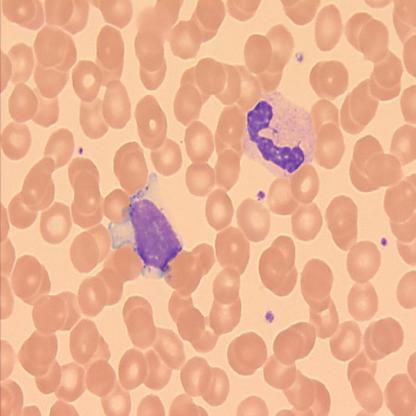Atypical lymphocyte: (107, 185, 185, 281), (245, 88, 316, 174)
